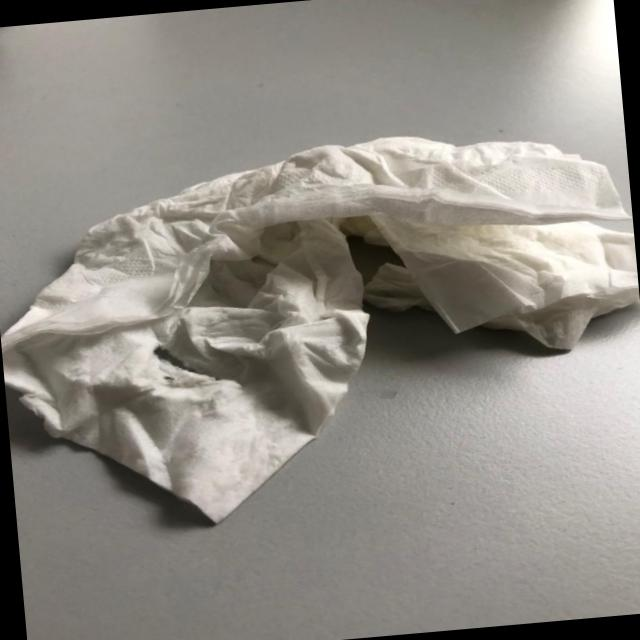organic waste: (0, 116, 640, 536)
